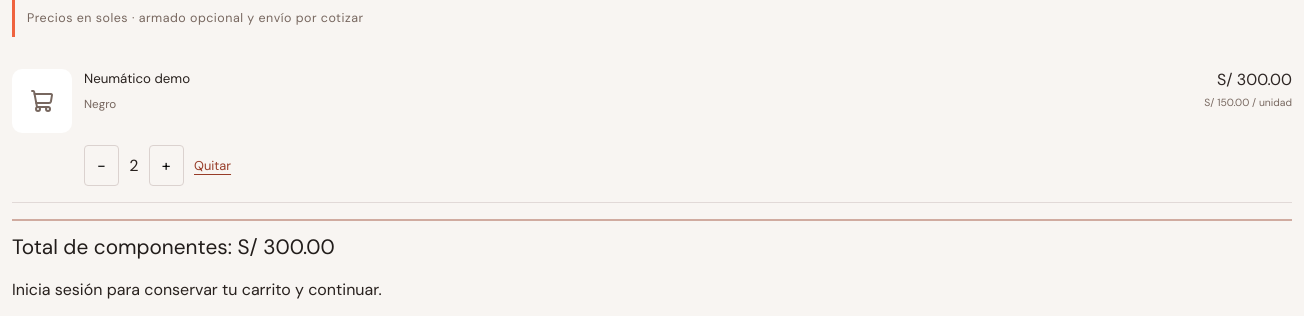
it: updates quantity totals from cached unit prices without another price query per click
Expected: the text "Total de componentes: S/ 300.00" is shown, [12,219,1292,260]
Click the button named "Sumar unidad" at {"x": 166, "y": 166}, box [149,145,184,186]
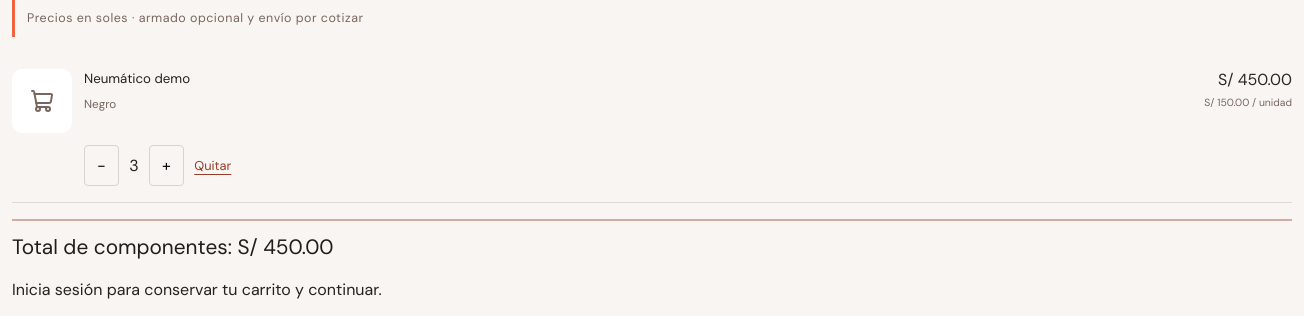
Now the text "Total de componentes: S/ 450.00" is shown, box [12,219,1292,260]
